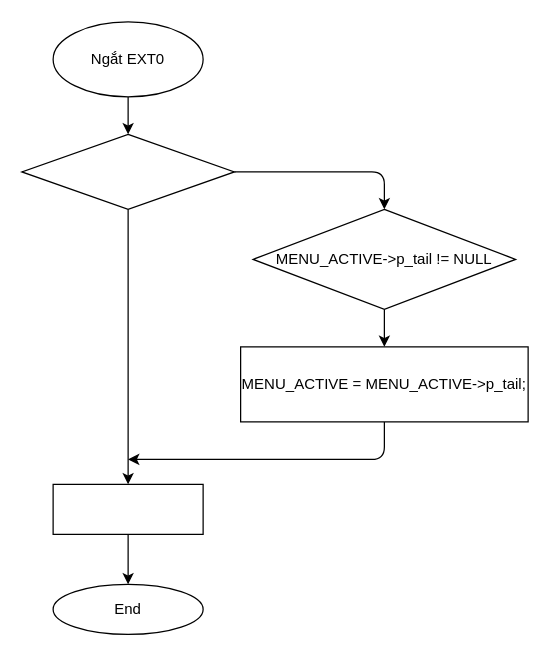
This 550x656 diagram has some shape labels left out. The shapes that lost their labels are listed below. From the top down, each one's centre as x and y in pixels, then its label:
pixel 127 171: EXTI->PR&(1U<<0)
pixel 127 508: Hiển thị LCD
